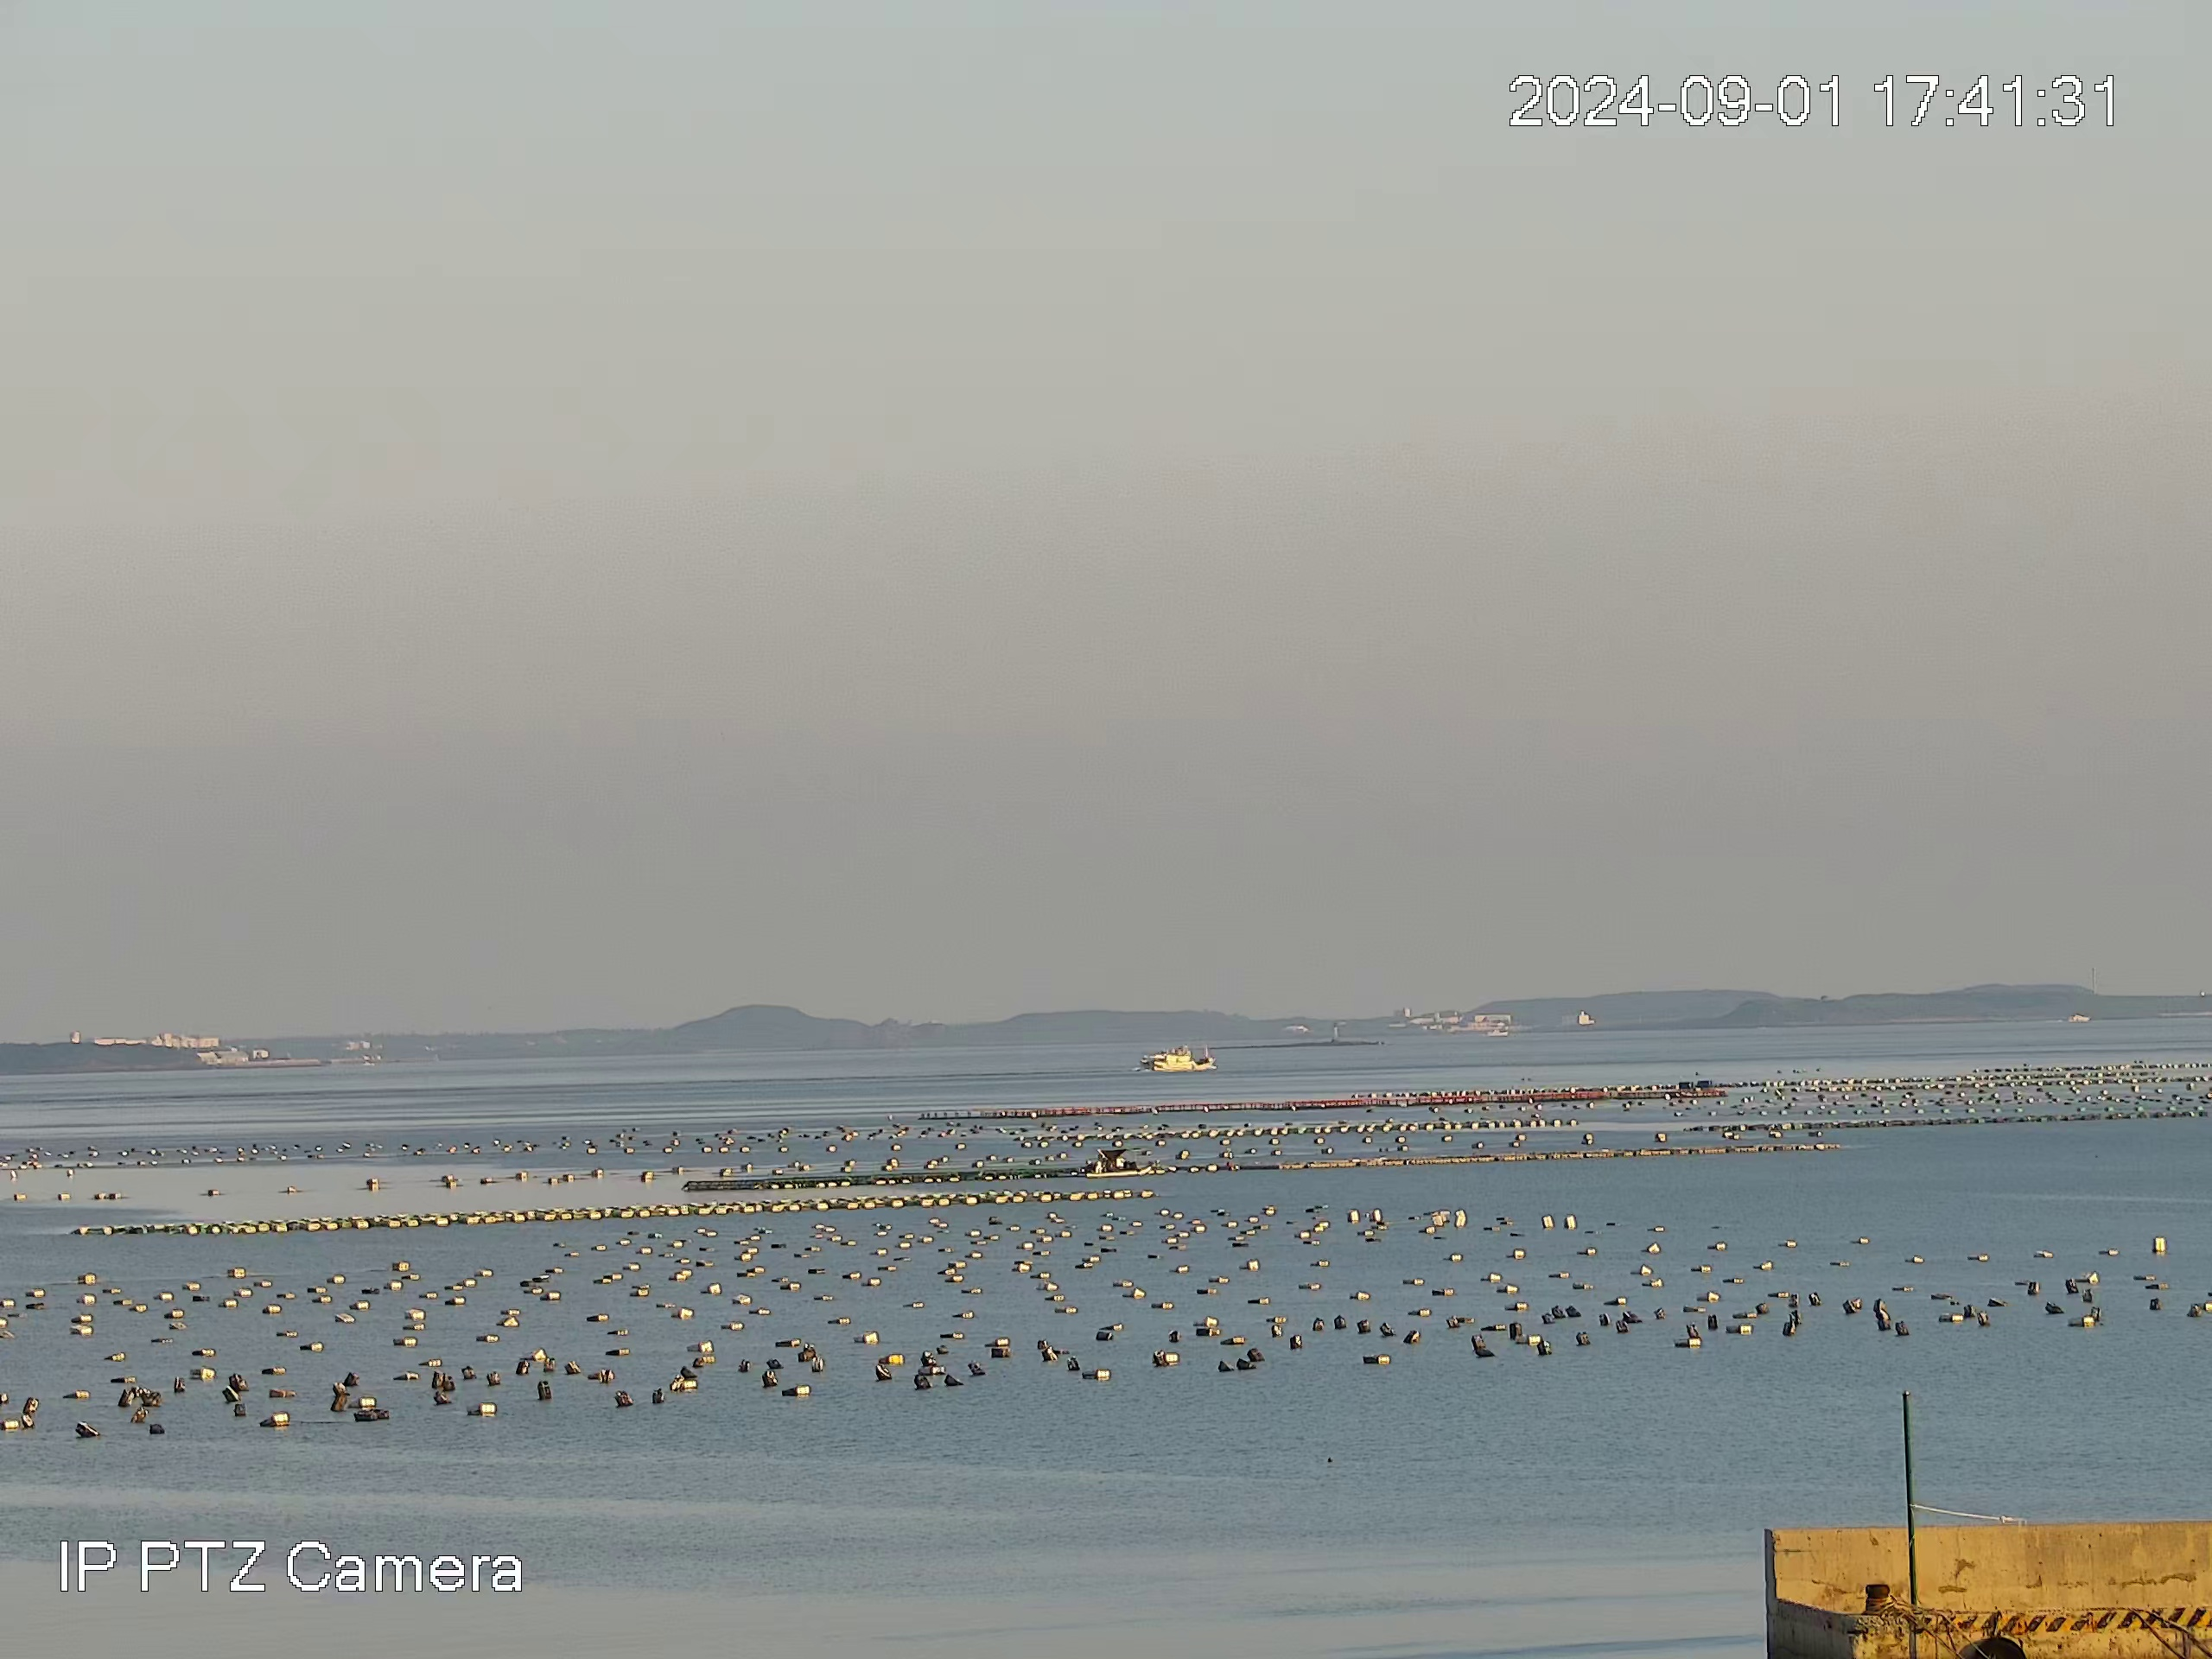boat: (1139, 1046, 1217, 1073), (1089, 1145, 1151, 1176)
